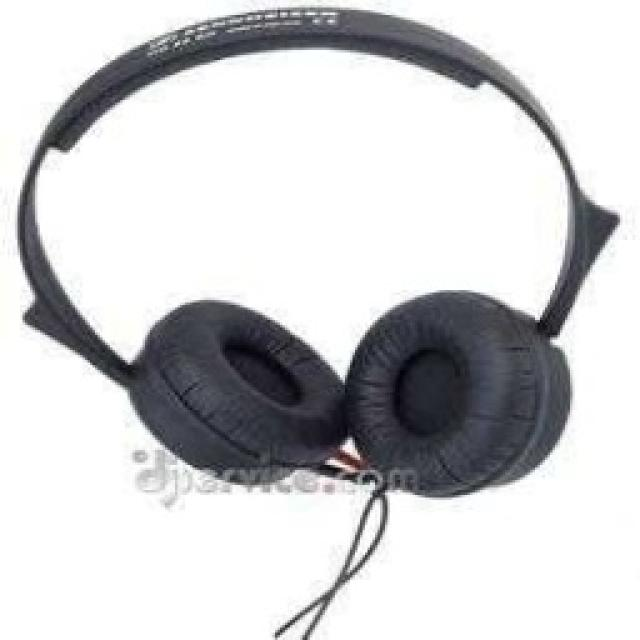kulaklik: (6, 3, 633, 638)
